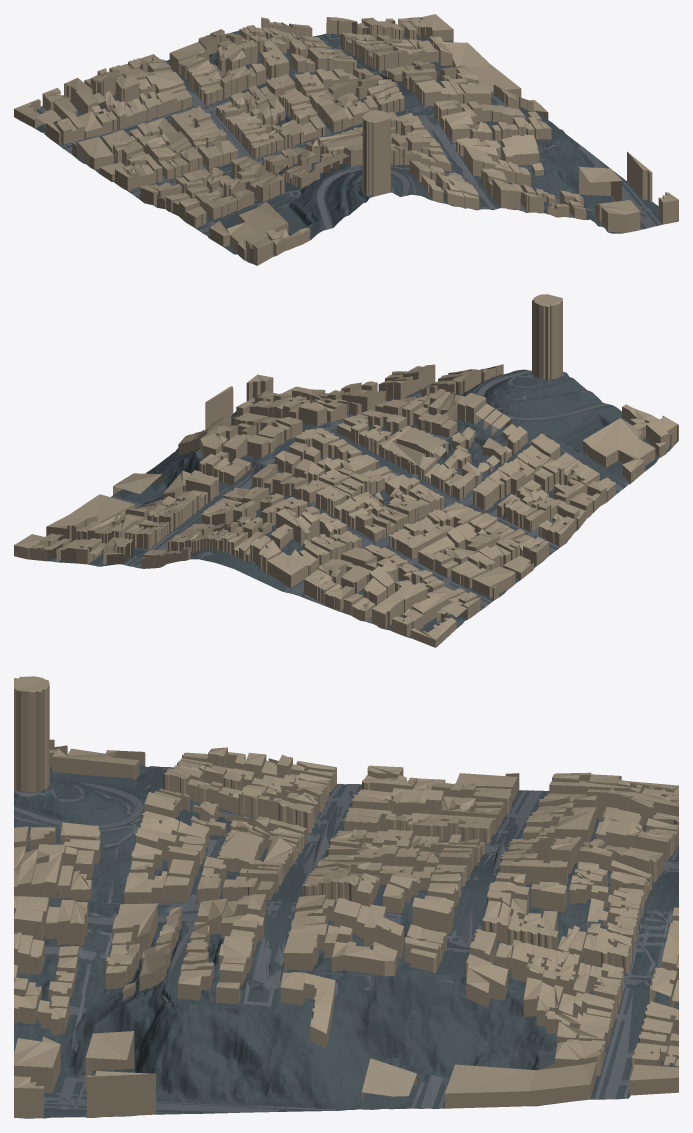
File: epsg26910-1438-10895.lod0.glb
The picture shows the model from 3 angles, top to bottom: view 1: azimuth 30°, elevation 25°; view 2: azimuth 150°, elevation 25°; view 3: azimuth 270°, elevation 25°; orthographic projection. The views are drawn at different scales.
Parts seen in each view (by area): view 1: epsg26910-1438-10895-lod0; view 2: epsg26910-1438-10895-lod0; view 3: epsg26910-1438-10895-lod0.
Part boxes in pixels (x1=…): epsg26910-1438-10895-lod0: x1=14, y1=14, x2=678, y2=265; epsg26910-1438-10895-lod0: x1=14, y1=294, x2=678, y2=647; epsg26910-1438-10895-lod0: x1=14, y1=676, x2=678, y2=1118.
Bounding box in the file's own units: 384 × 151 × 384.
